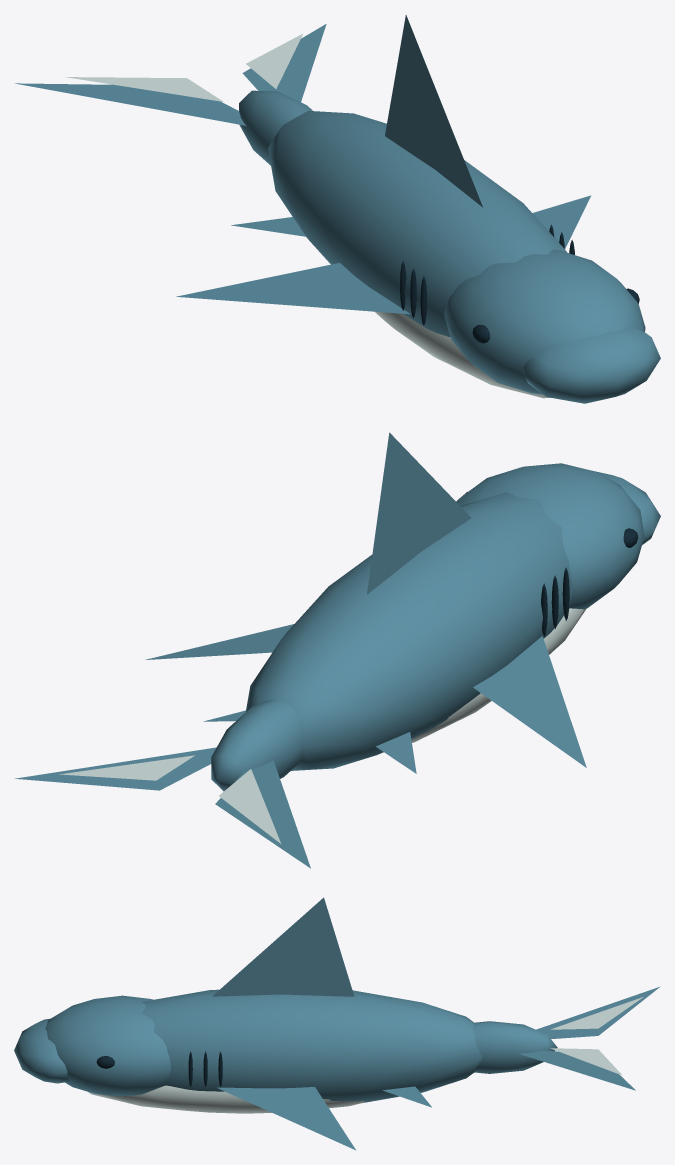
3 views of the same model, one above another, from view 1: azimuth 30°, elevation 25°; view 2: azimuth 150°, elevation 25°; view 3: azimuth 270°, elevation 25° (orthographic). The views are drawn at different scales.
Visible parts, largest first — view 1: ReefShark_Slate blue, Tail_Slate blue, Tail_Pale belly, Underbelly, ReefShark_Eyes; view 2: ReefShark_Slate blue, Tail_Slate blue, Tail_Pale belly, Underbelly, ReefShark_Eyes; view 3: ReefShark_Slate blue, Tail_Slate blue, Underbelly, Tail_Pale belly, ReefShark_Eyes.
Boxes of the visible parts, x1=… form: ReefShark_Slate blue: x1=176, y1=15, x2=660, y2=403; Tail_Slate blue: x1=15, y1=24, x2=326, y2=165; Tail_Pale belly: x1=65, y1=34, x2=302, y2=101; Underbelly: x1=374, y1=311, x2=550, y2=398; ReefShark_Eyes: x1=400, y1=224, x2=639, y2=343; ReefShark_Slate blue: x1=145, y1=432, x2=660, y2=773; Tail_Slate blue: x1=15, y1=699, x2=310, y2=868; Tail_Pale belly: x1=59, y1=755, x2=280, y2=843; Underbelly: x1=411, y1=608, x2=586, y2=742; ReefShark_Eyes: x1=465, y1=492, x2=638, y2=636; ReefShark_Slate blue: x1=14, y1=897, x2=482, y2=1150; Tail_Slate blue: x1=473, y1=986, x2=660, y2=1090; Underbelly: x1=88, y1=1085, x2=364, y2=1113; Tail_Pale belly: x1=550, y1=997, x2=643, y2=1075; ReefShark_Eyes: x1=96, y1=1051, x2=222, y2=1087.
Size of the model in its own units: 1.28 by 0.8423 by 2.38.
